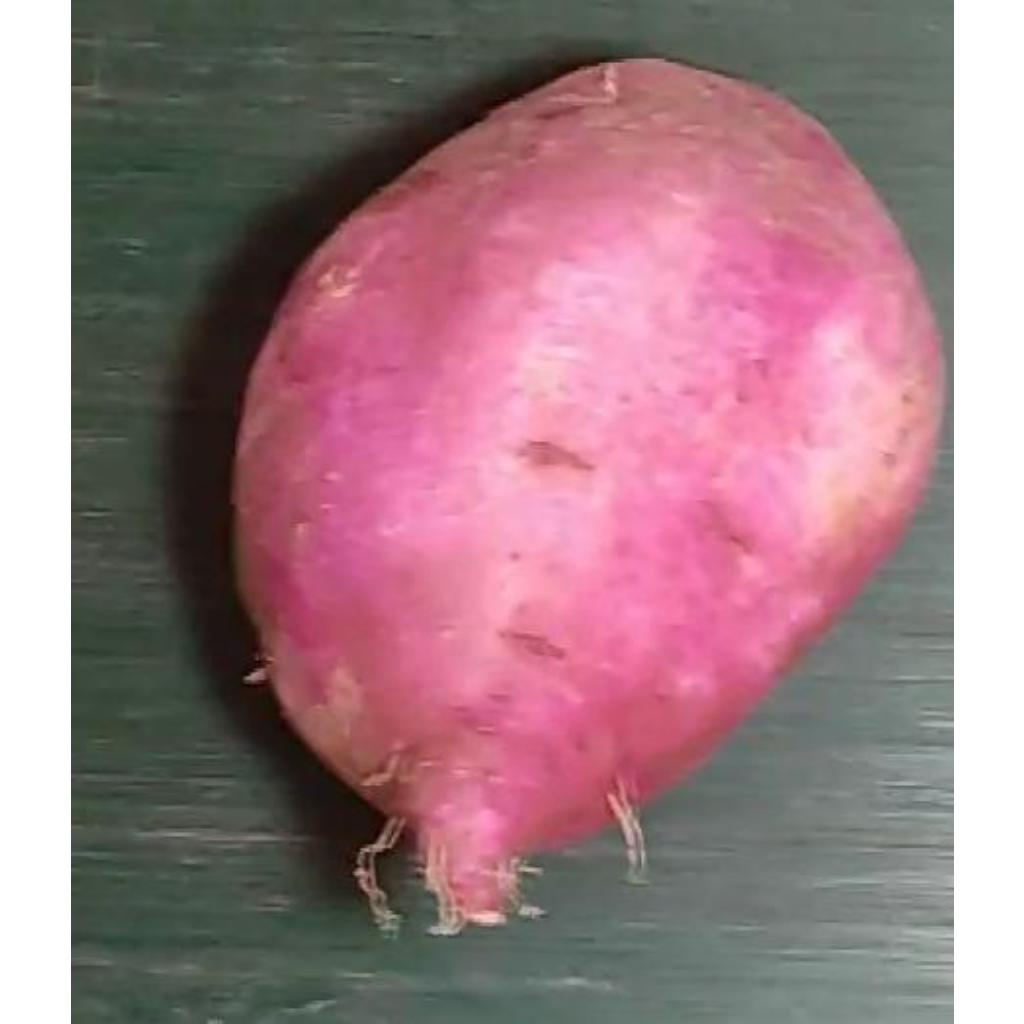Sweet Potato: (232, 57, 945, 936)
